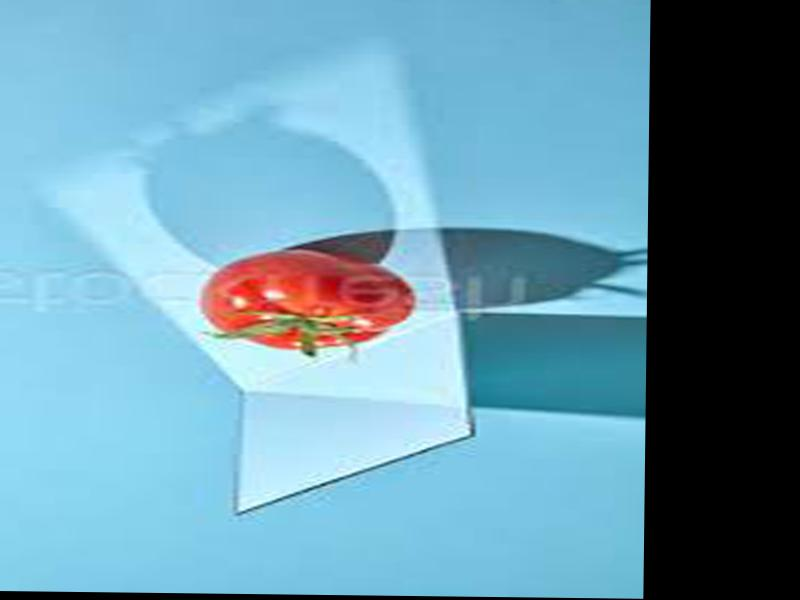Tomato: (200, 248, 416, 351)
